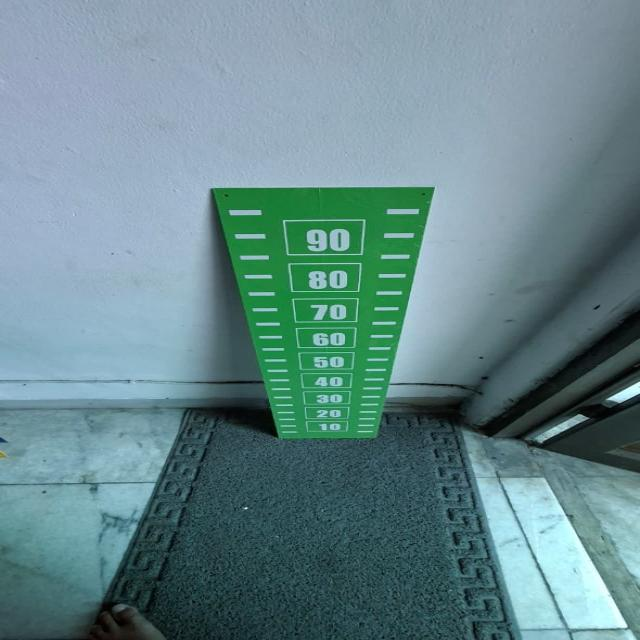water-meter: (189, 177, 438, 447)
